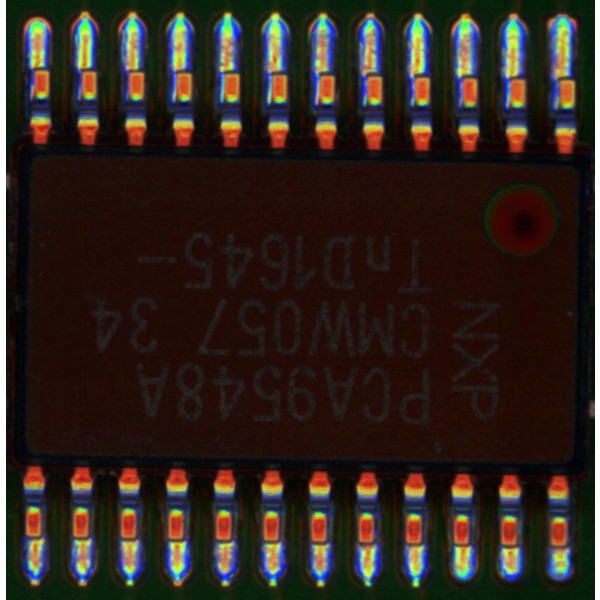Bad_podu: (220, 56, 236, 86), (122, 529, 137, 555), (413, 56, 424, 90), (269, 57, 283, 83), (507, 63, 520, 91), (406, 537, 422, 559), (313, 534, 328, 557), (78, 523, 89, 554), (364, 62, 378, 86), (459, 62, 471, 90), (317, 59, 330, 84), (28, 528, 41, 553), (177, 57, 189, 84), (558, 63, 570, 89), (170, 531, 183, 553), (219, 534, 232, 556), (502, 538, 515, 560), (456, 534, 468, 557), (34, 55, 45, 80), (359, 536, 372, 557), (267, 533, 279, 555), (81, 55, 92, 77), (128, 60, 140, 78)
